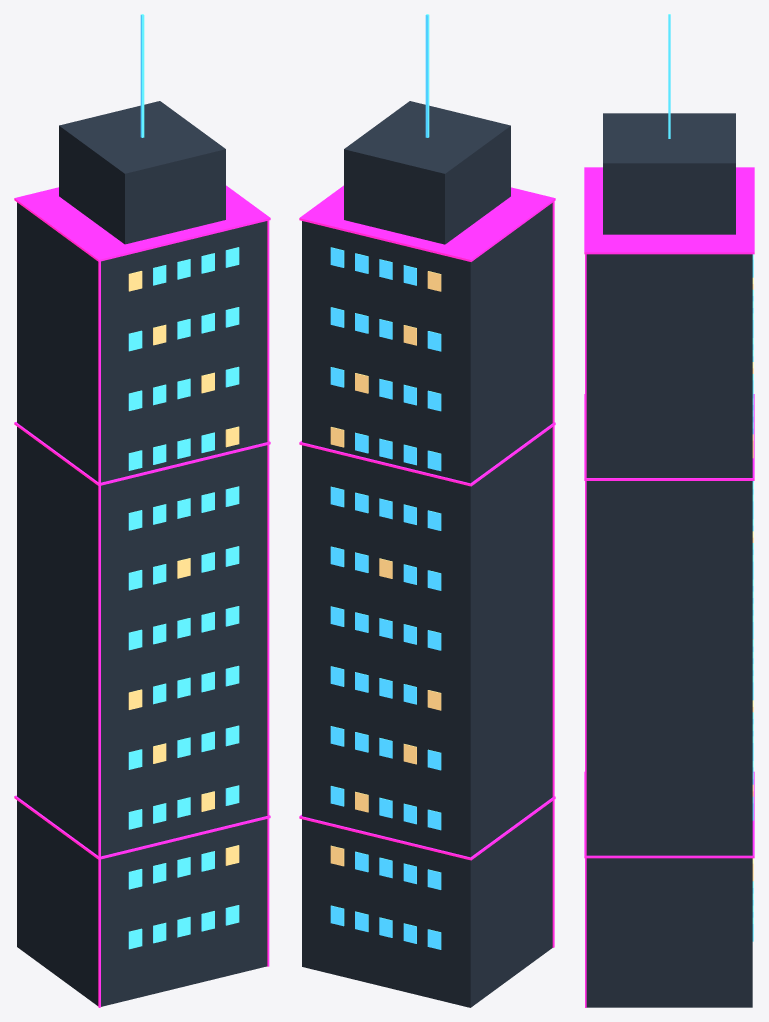
Rendered from skyline_magenta.glb.
The picture shows the model from 3 angles, left to right: view 1: azimuth 30°, elevation 25°; view 2: azimuth 150°, elevation 25°; view 3: azimuth 270°, elevation 25°; orthographic projection.
Visible parts, largest first — view 1: Skyline; view 2: Skyline; view 3: Skyline.
Boxes of the visible parts, x1,y1,x2,y2 form: Skyline: (14,14,270,1007); Skyline: (299,14,555,1007); Skyline: (584,14,754,1007).
Size of the model in its own units: 6.02 by 31.5 by 5.12.
